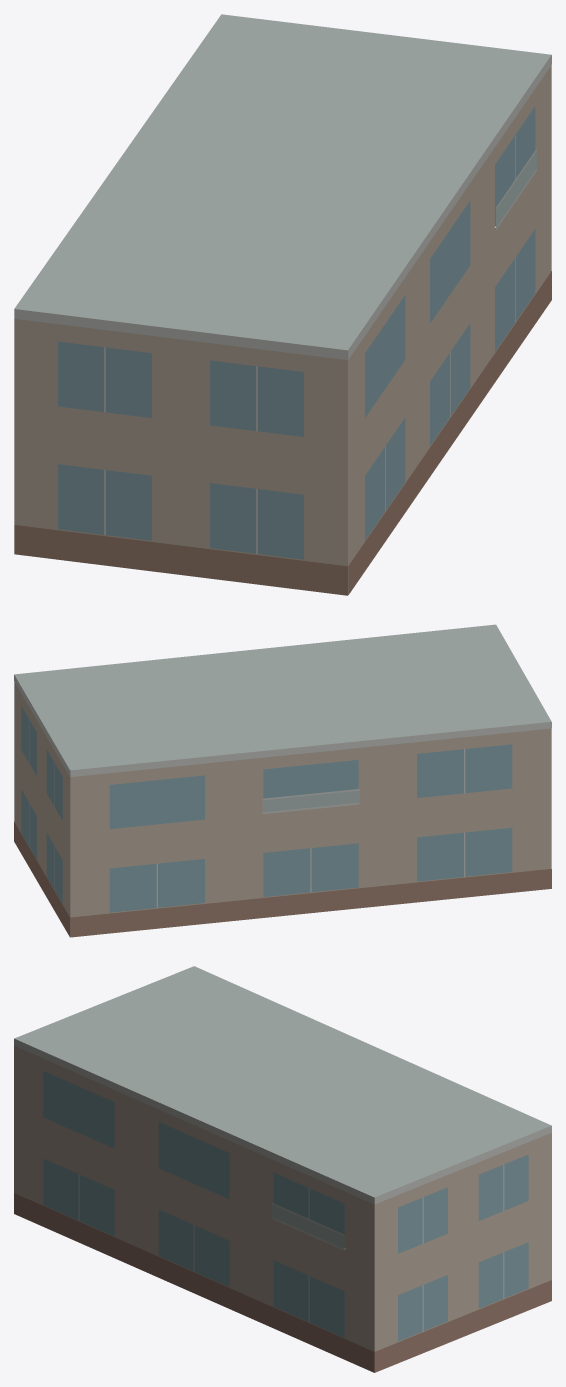
The model's file is survey-upis-32710079.glb.
3 views of the same model, one above another, from view 1: azimuth 30°, elevation 25°; view 2: azimuth 150°, elevation 25°; view 3: azimuth 270°, elevation 25° (orthographic). The views are drawn at different scales.
Visible parts, largest first — view 1: survey-upis-32710079.tmp; view 2: survey-upis-32710079.tmp; view 3: survey-upis-32710079.tmp.
Part boxes in pixels (x1,y1,x2,y2): survey-upis-32710079.tmp: (14, 14, 551, 595); survey-upis-32710079.tmp: (14, 624, 551, 937); survey-upis-32710079.tmp: (14, 966, 551, 1372).
Size of the model in its own units: 17.28 by 6.1 by 16.96.
